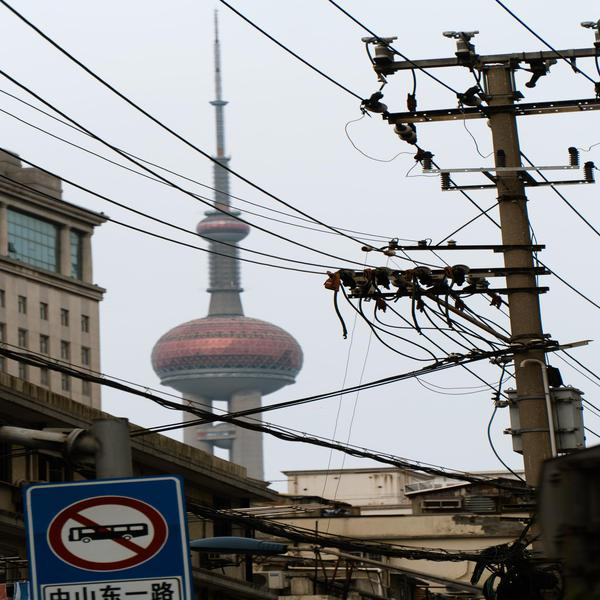utility_pole: (321, 13, 600, 446)
